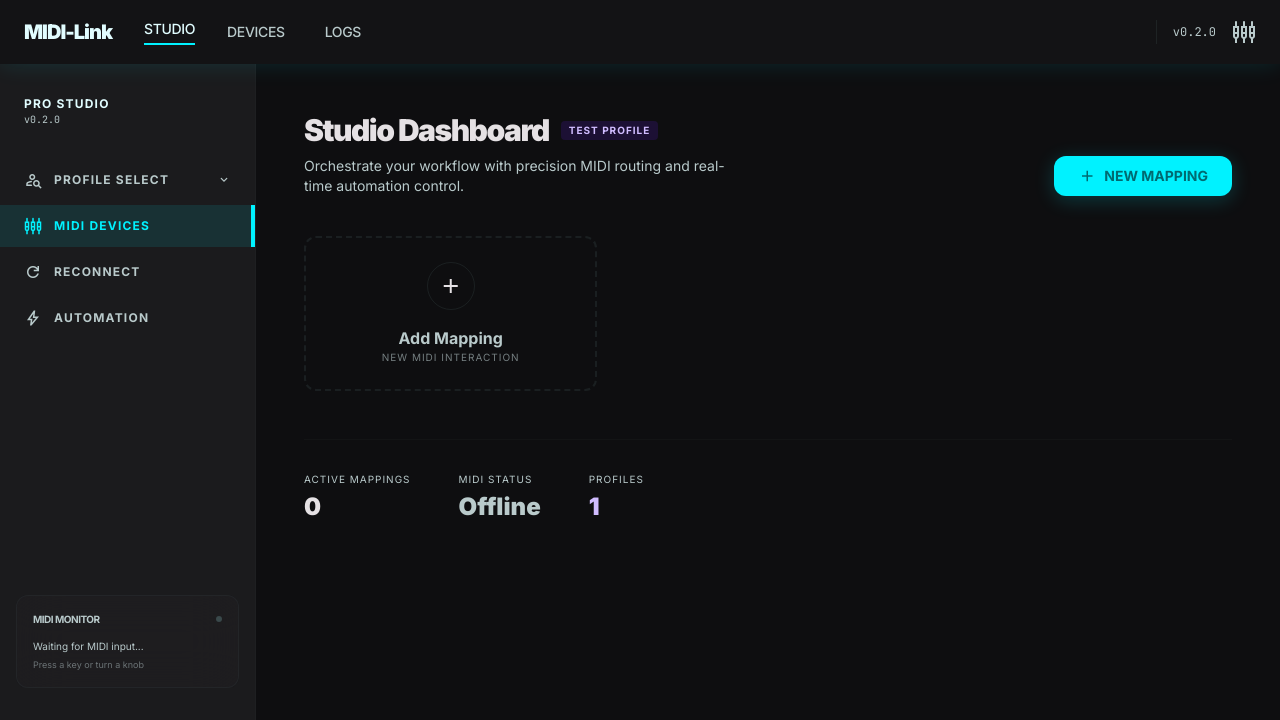
Test case: Full Mapping Flow › opens action editor after selecting MIDI values
Open MIDI selector
Click the text "Add Mapping".
click(451, 338)  # box x1=398 y1=328 x2=503 y2=348
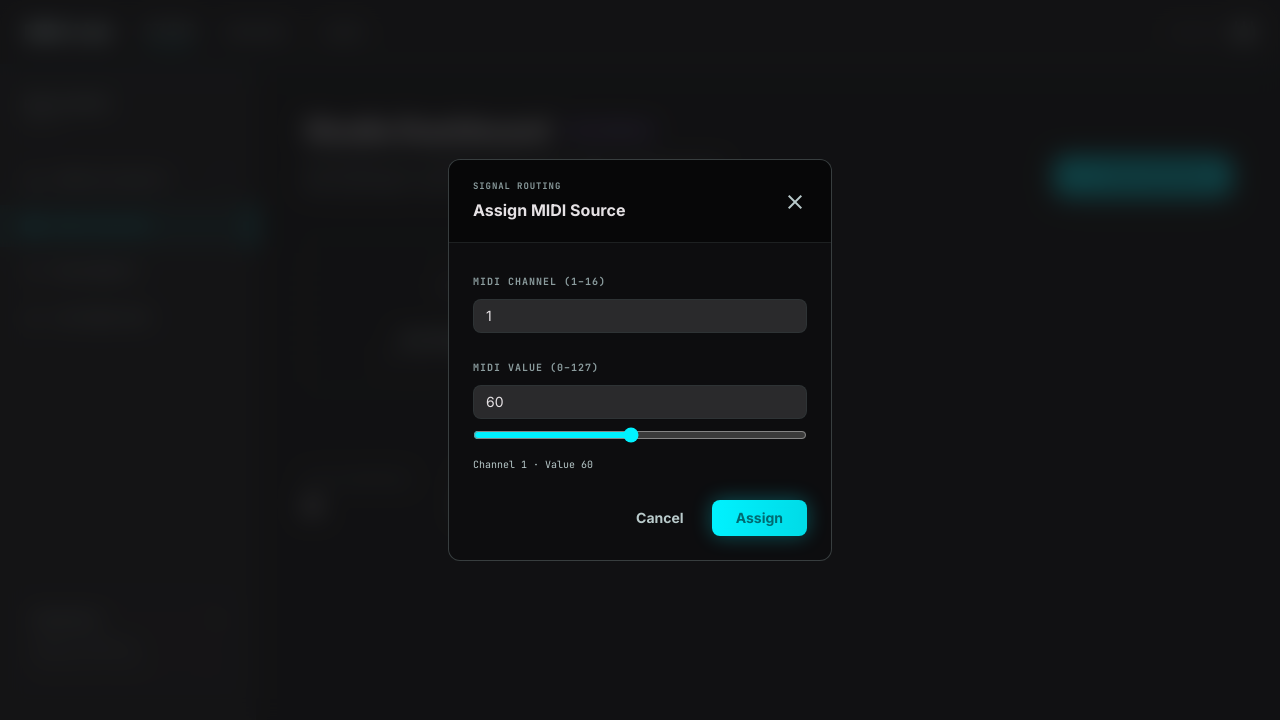
Result: the heading "Assign MIDI Source" is shown at x1=473 y1=198 x2=625 y2=222
Click Assign
Click the button "Assign".
click(759, 518)  # box x1=712 y1=500 x2=807 y2=536
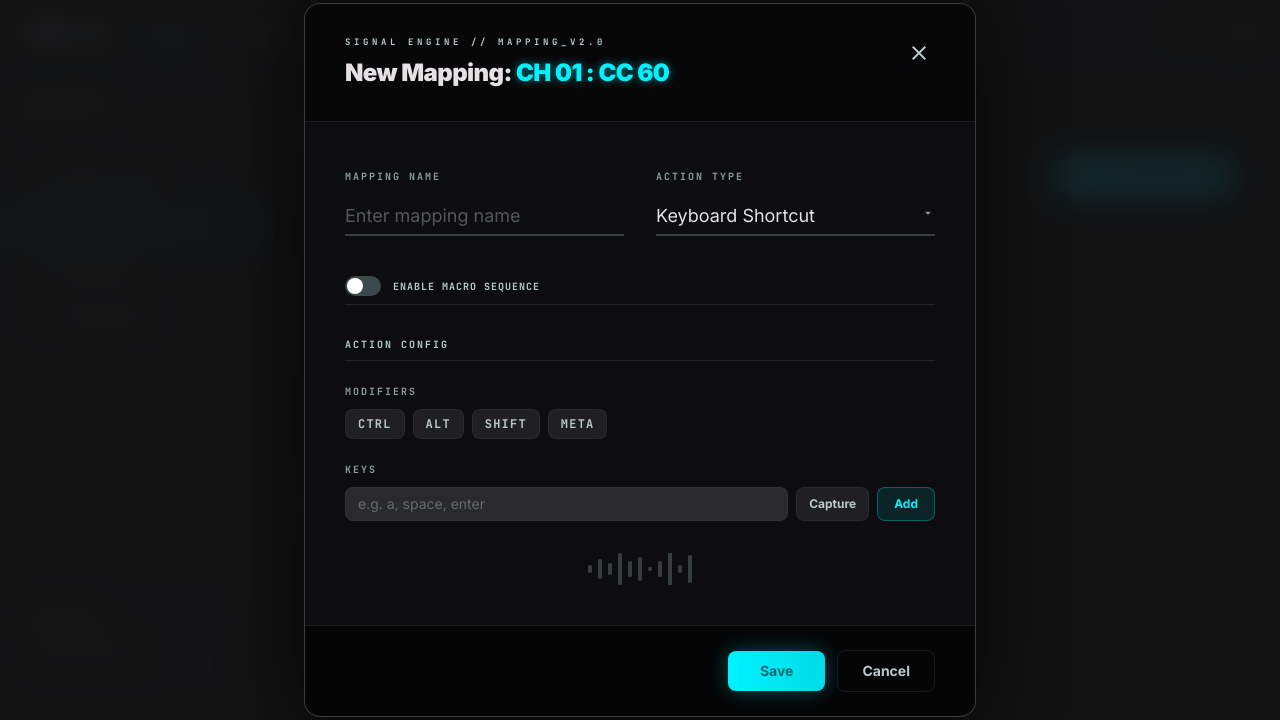
Result: the text "SIGNAL ENGINE // MAPPING_v2.0" is shown at x1=345 y1=36 x2=606 y2=48
